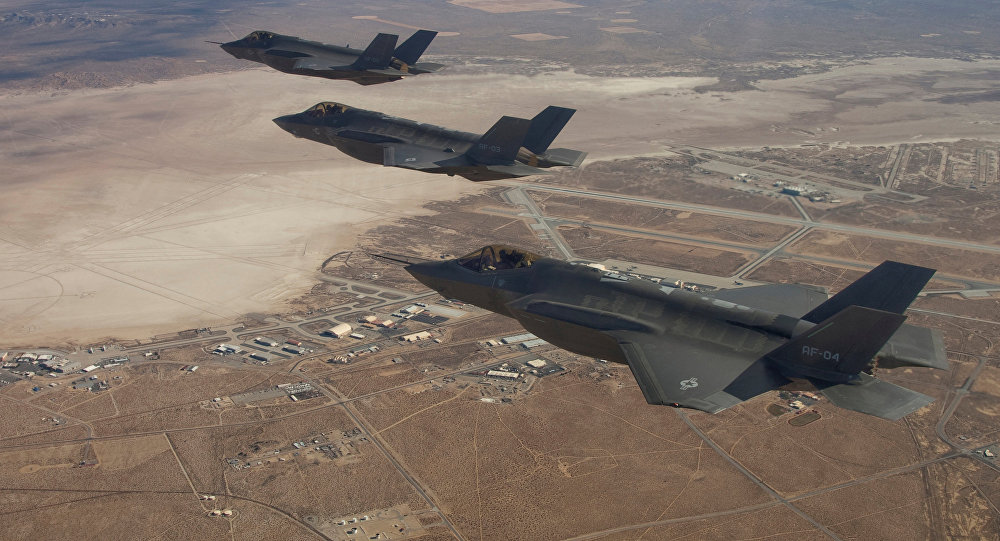F-35 Lightning: (372, 216, 972, 452), (241, 87, 622, 198), (206, 14, 461, 98)
